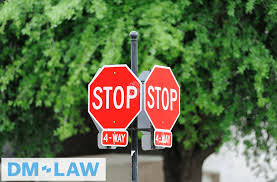stop sign: (88, 64, 141, 131), (144, 65, 180, 133)
